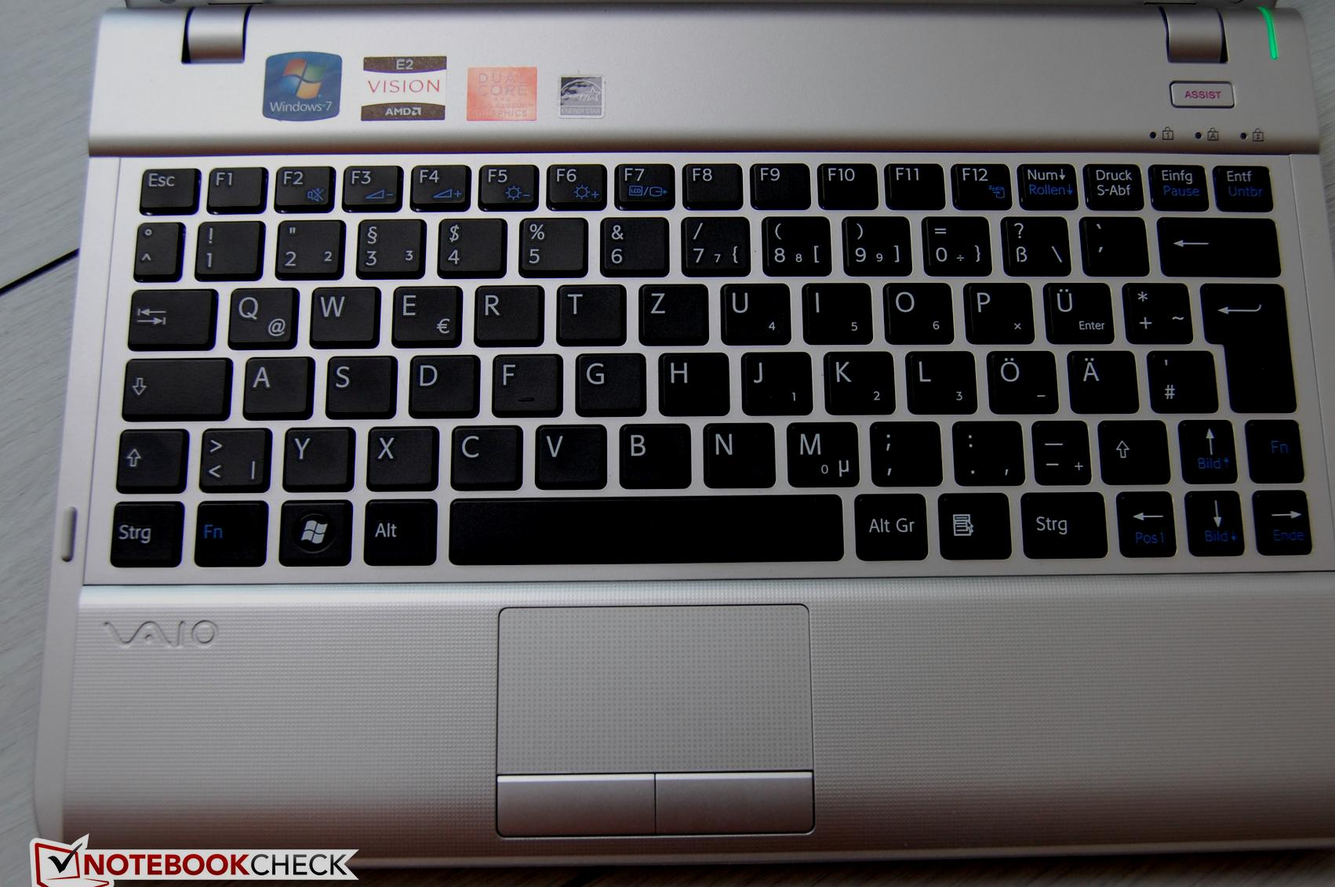0: (919, 211, 989, 272)
1: (192, 215, 260, 276)
2: (272, 215, 342, 274)
3: (351, 213, 423, 274)
4: (435, 213, 504, 273)
5: (516, 213, 585, 273)
6: (598, 212, 667, 272)
7: (678, 212, 749, 273)
8: (758, 212, 829, 273)
9: (838, 212, 909, 272)
a: (240, 351, 308, 415)
accent: (1079, 212, 1145, 270)
ae: (1065, 346, 1137, 410)
alt-left: (359, 495, 432, 562)
altgr-right: (852, 488, 926, 556)
b: (613, 418, 688, 485)
c: (446, 421, 518, 486)
caret: (131, 217, 178, 276)
comma: (867, 417, 940, 482)
d: (405, 349, 475, 414)
del: (1156, 212, 1275, 271)
e: (388, 281, 459, 344)
enter: (1199, 279, 1293, 408)
f: (487, 349, 558, 414)
g: (571, 348, 641, 411)
h: (654, 348, 726, 411)
hash: (1145, 346, 1214, 410)
i: (799, 278, 869, 340)
j: (737, 347, 809, 411)
k: (820, 346, 892, 410)
keyboard: (78, 147, 1330, 579)
l: (904, 346, 973, 410)
less: (195, 422, 267, 488)
m: (780, 416, 857, 484)
minus: (1030, 416, 1089, 481)
n: (698, 418, 771, 483)
o: (879, 277, 950, 340)
oe: (984, 346, 1054, 410)
p: (960, 277, 1031, 339)
plus: (1120, 277, 1189, 340)
point: (948, 416, 1022, 482)
q: (224, 281, 294, 346)
r: (471, 281, 540, 342)
s: (322, 351, 391, 415)
shift-left: (113, 424, 184, 488)
shift-lock: (119, 352, 227, 415)
shift-right: (1095, 418, 1173, 483)
space: (446, 491, 842, 559)
ss: (999, 212, 1068, 271)
strg-left: (106, 496, 179, 563)
strg-right: (1017, 487, 1104, 554)
t: (552, 280, 623, 342)
tab: (125, 284, 212, 346)
u: (716, 278, 788, 342)
ue: (1041, 277, 1112, 342)
v: (530, 419, 602, 485)
w: (305, 281, 375, 343)
x: (363, 422, 434, 487)
y: (279, 422, 351, 487)
z: (635, 279, 706, 342)
